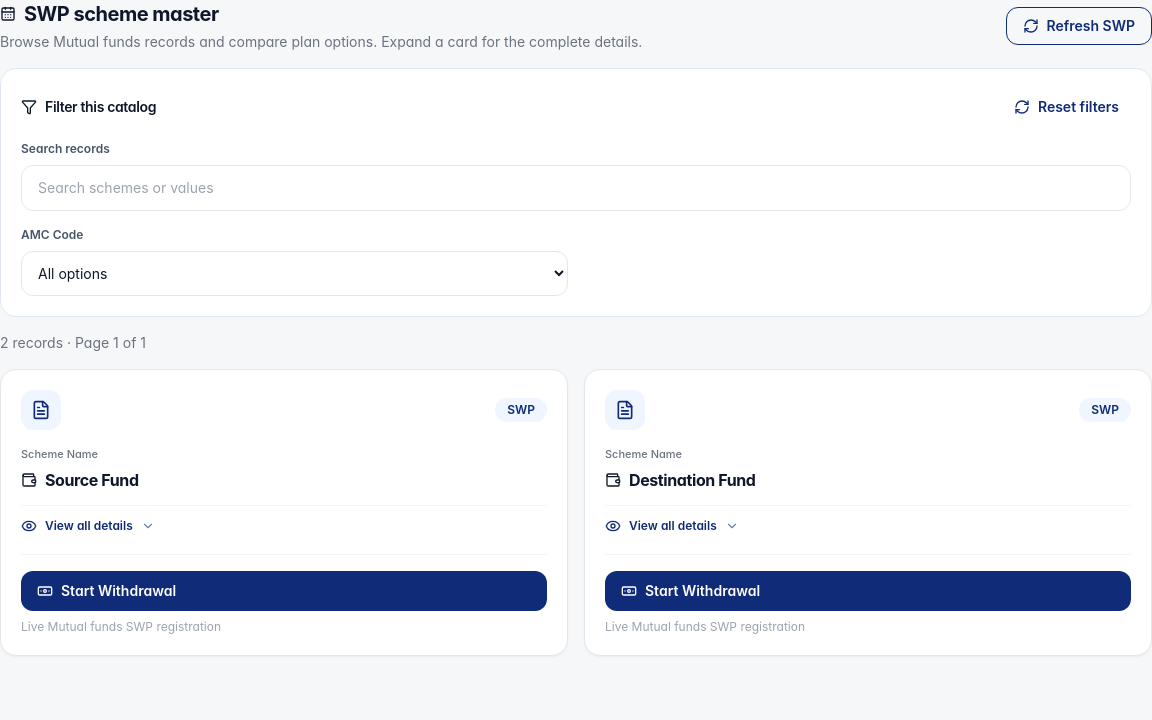
Scenario: Mutual funds selected master preview › opens the correct plan form from a SWP card
This screenshot has width=1152, height=720.
Step 1. Click the button "Start Withdrawal" below "Source Fund" → x=119, y=590, box [21,570,547,610]
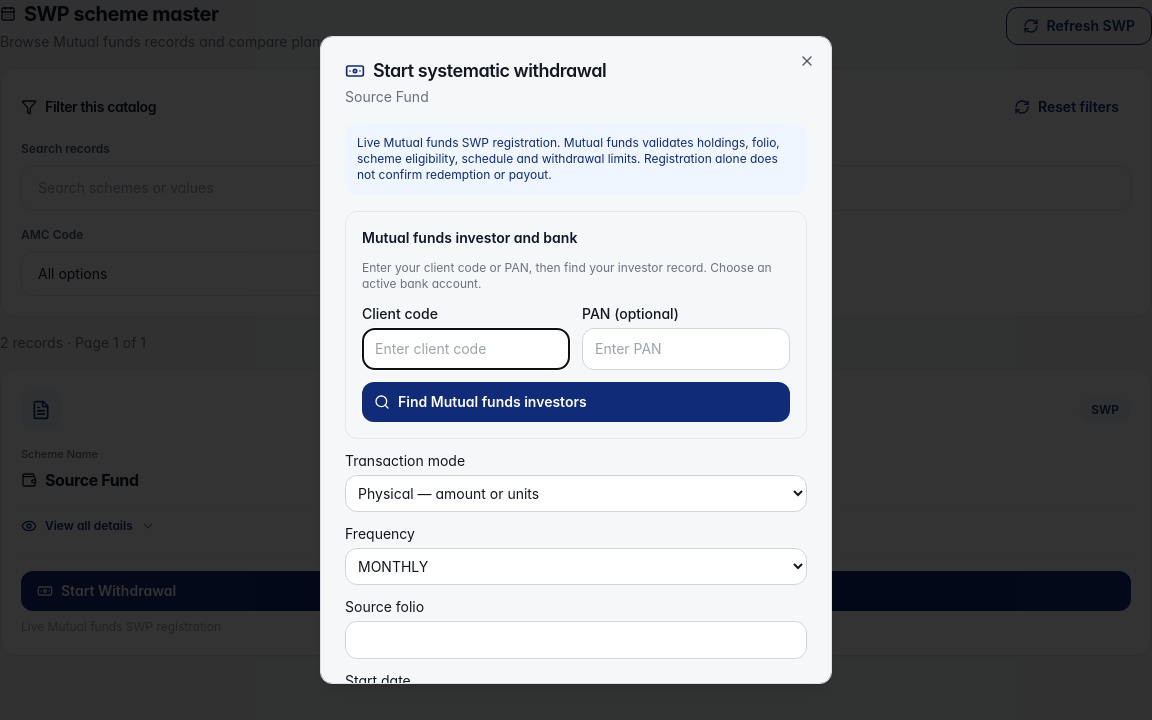
Check: the dialog is shown, box [320,36,832,684]
Check: the heading "Start systematic withdrawal" is shown, box [345,60,606,81]
